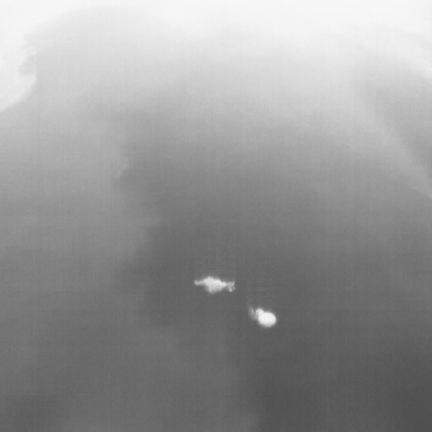flukeprints: (195, 276, 235, 293), (251, 308, 276, 327)
